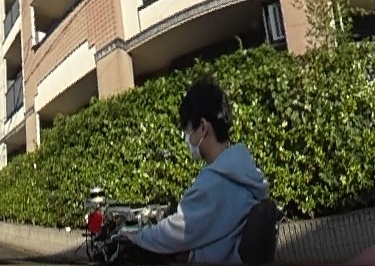person: (120, 82, 273, 266)
